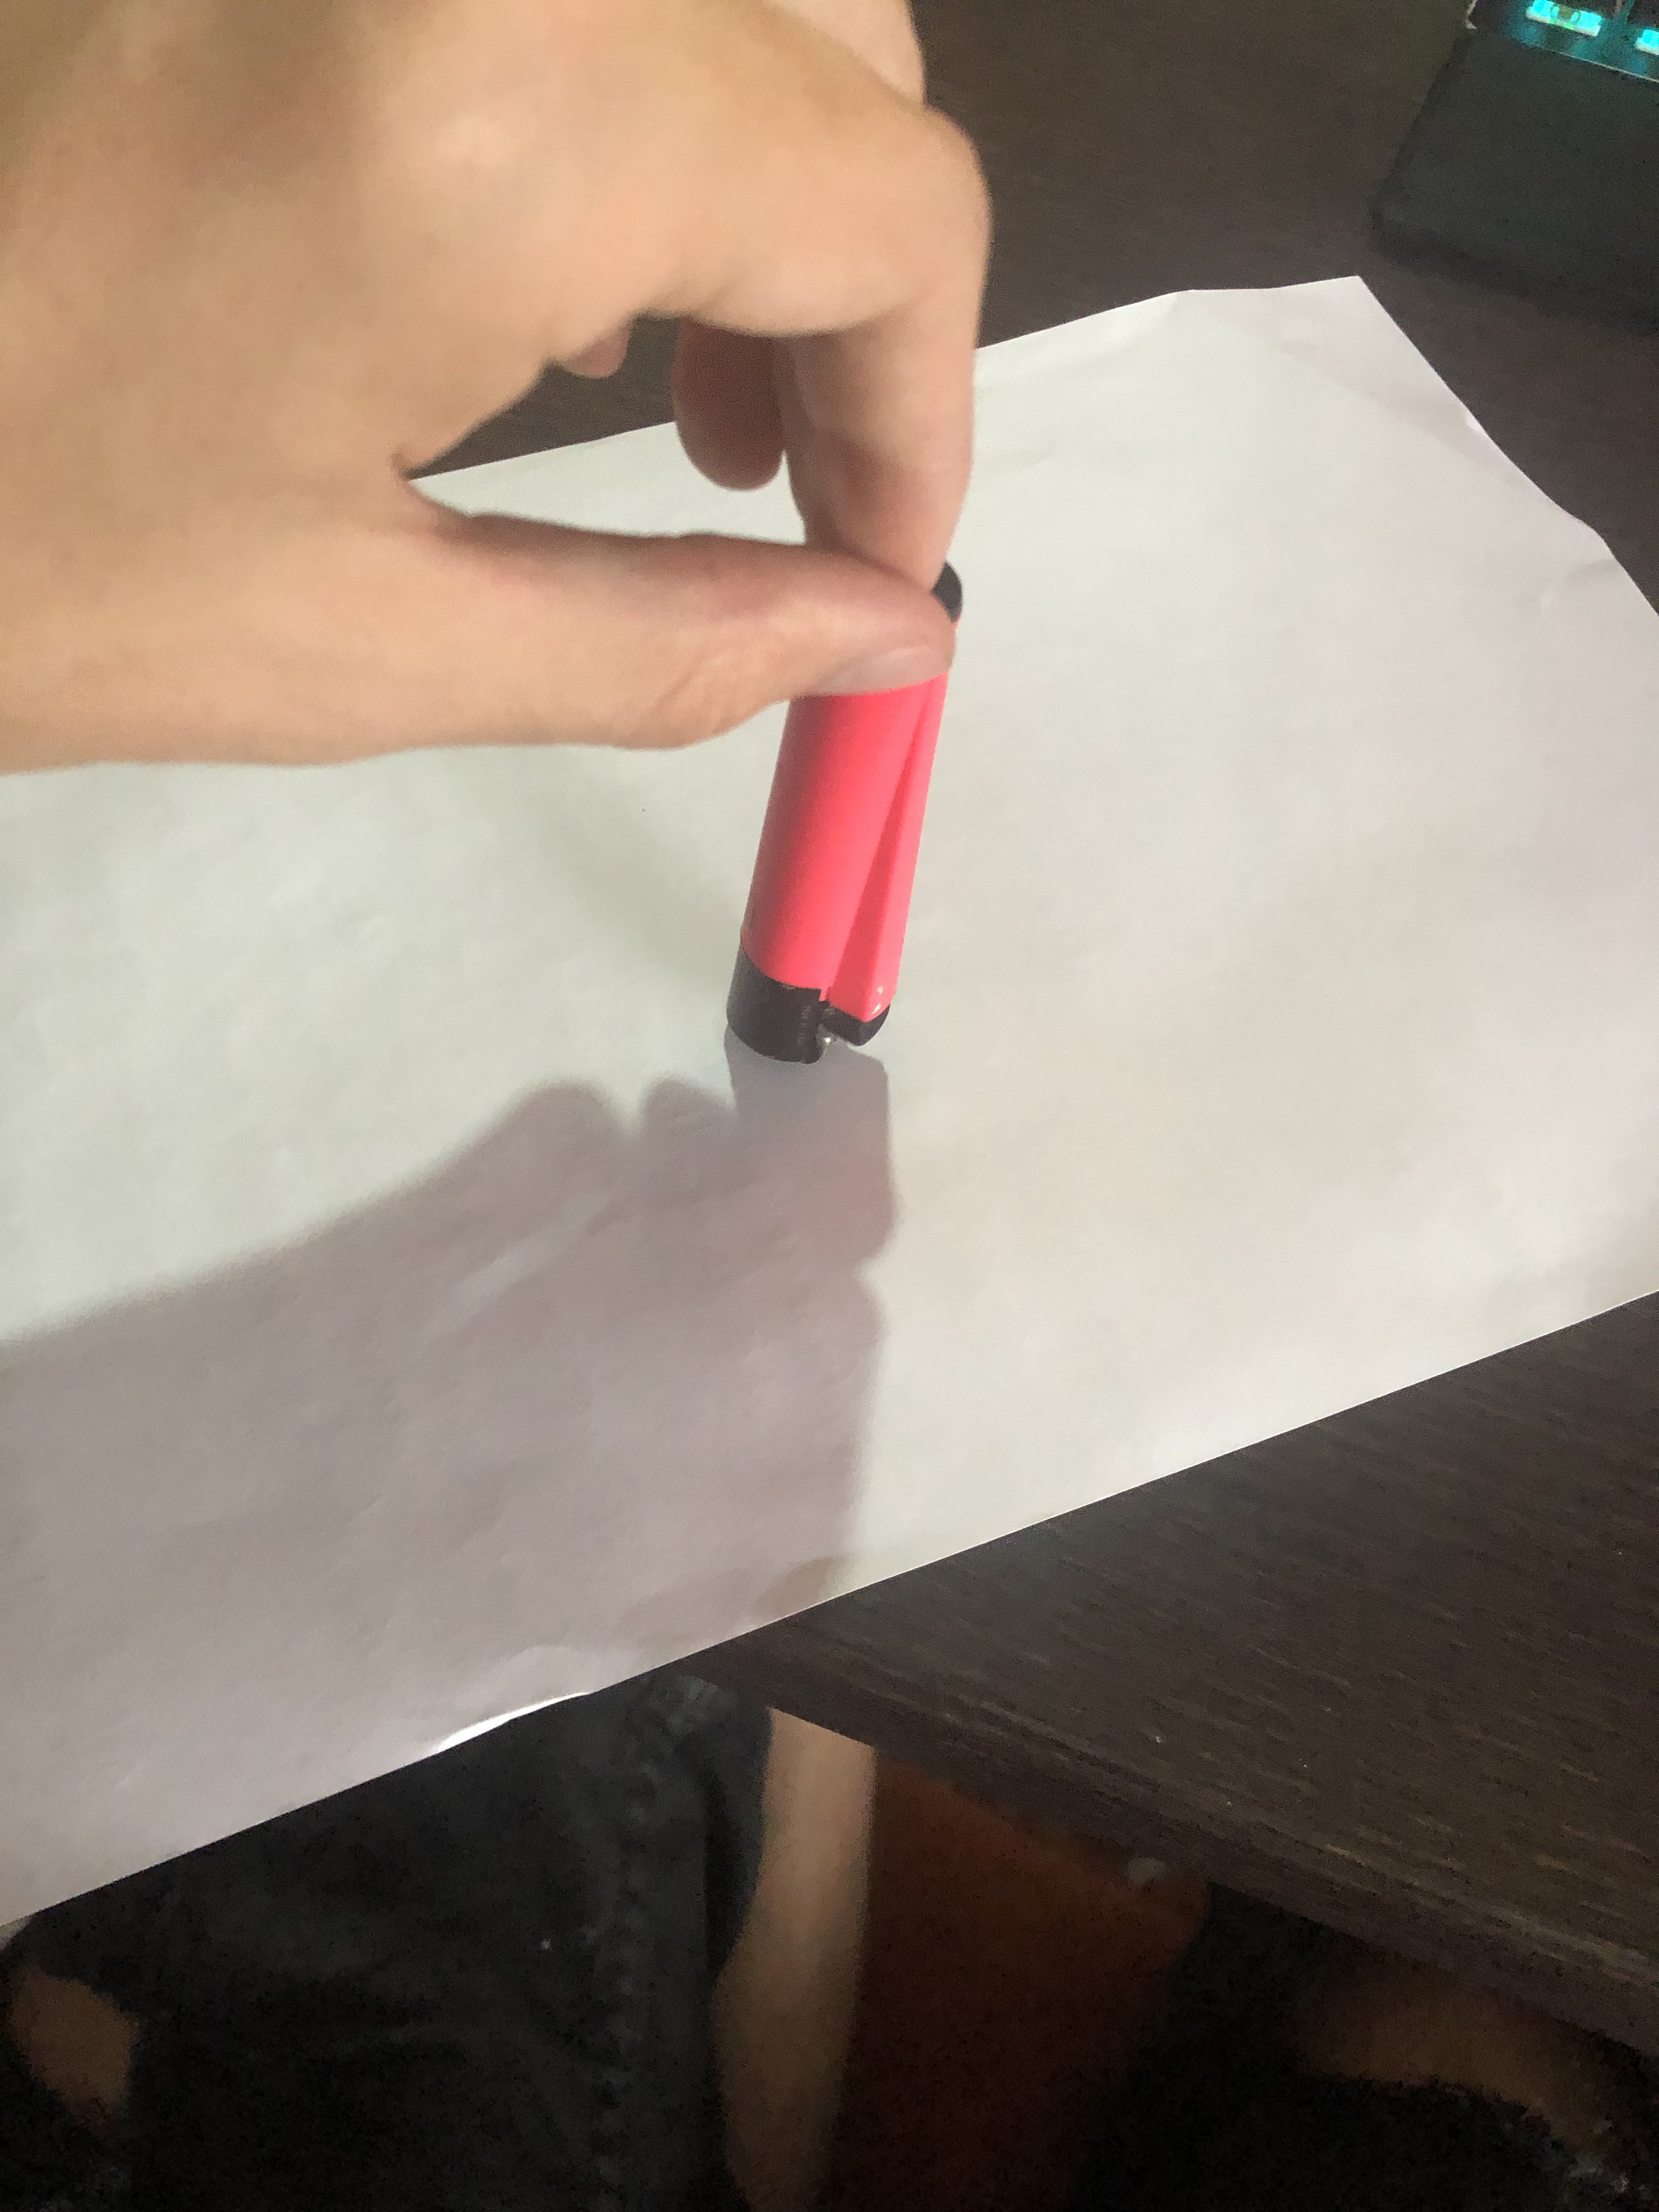Mechero: (714, 693, 965, 1078)
